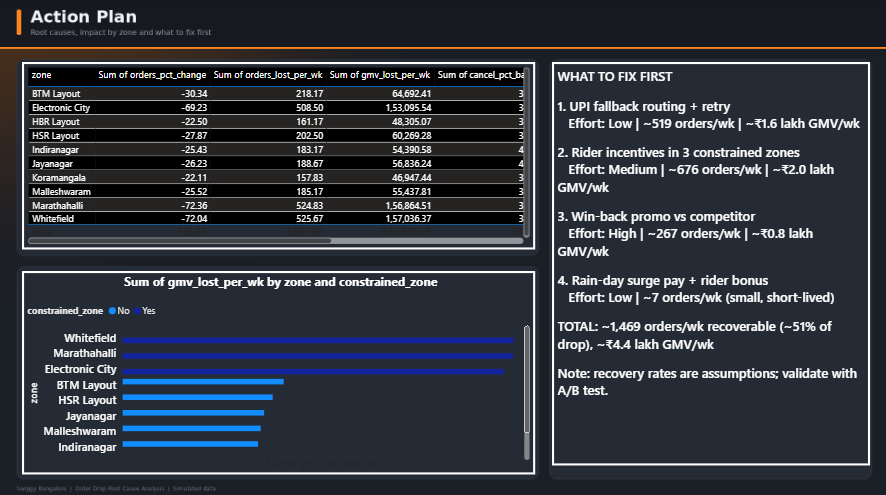

The page's visual inventory and layout, read from the dashboard file:
{"tool":"powerbi","page":{"name":"Page 3","canvas":[1280,720],"ordinal":2},"visuals":[{"type":"tableEx","fields":{"Values":["zone_impact.zone","Sum(zone_impact.orders_pct_change)","Sum(zone_impact.orders_lost_per_wk)","Sum(zone_impact.gmv_lost_per_wk)","Sum(zone_impact.cancel_pct_base)","Sum(zone_impact.cancel_pct_drop)","Sum(zone_impact.riders_pct_change)","zone_impact.constrained_zone"]},"box":[31.1,90.4,739.3,269.6],"z":0},{"type":"clusteredBarChart","fields":{"Category":["zone_impact.zone"],"Y":["Sum(zone_impact.gmv_lost_per_wk)"],"Series":["zone_impact.constrained_zone"]},"box":[31.1,391.1,739.3,293.3],"z":1},{"type":"textbox","box":[795.6,90.4,457.8,580.7],"z":2}]}

Visuals, with their boxes on the page's 1280x720 design canvas (x1, y1, x2, y2). These are canvas units, not pixel positions in the 886x495 screenshot, which may show the page scaled, cropped or inside an application window:
tableEx - zone_impact.zone x Sum(zone_impact.orders_pct_change): <bbox>31, 90, 770, 360</bbox>
clusteredBarChart - zone_impact.zone x Sum(zone_impact.gmv_lost_per_wk): <bbox>31, 391, 770, 684</bbox>
textbox: <bbox>796, 90, 1253, 671</bbox>
